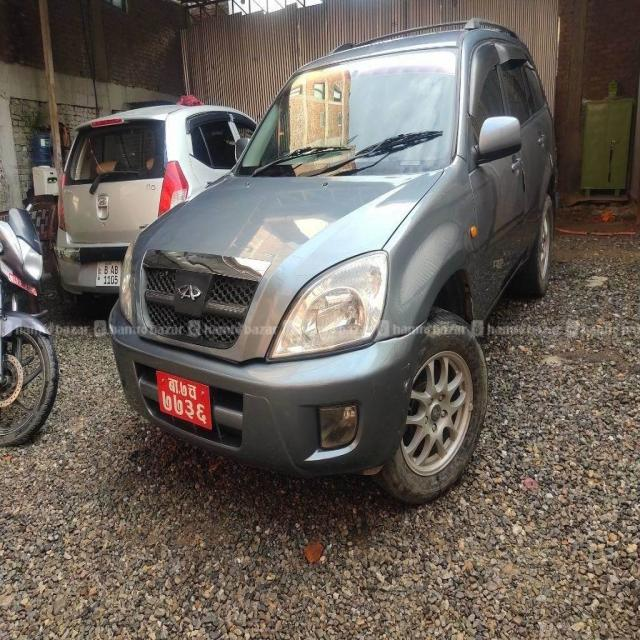License-plate: (152, 368, 216, 432)
